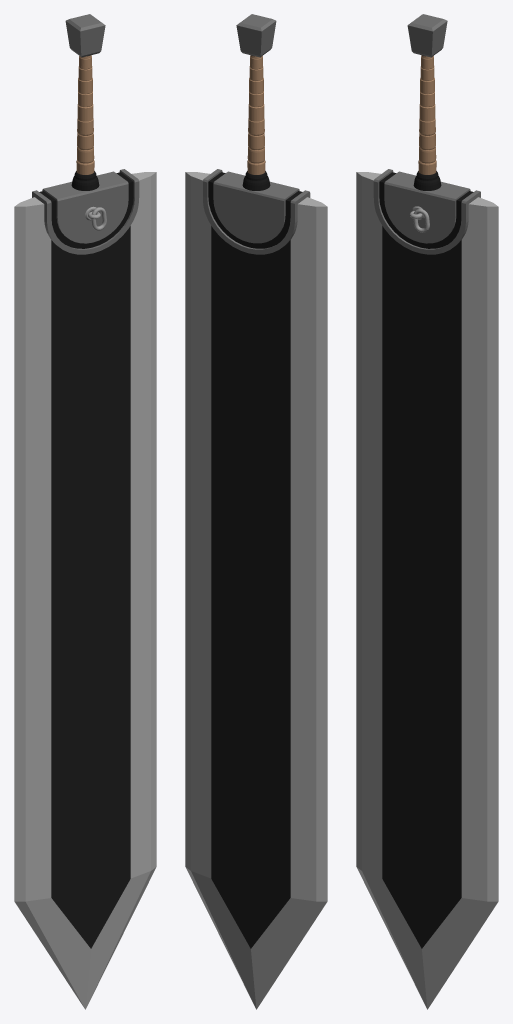
Rendered from DragonSlayer(Guts).fbx.
3 views of the same model, side by side, from view 1: azimuth 30°, elevation 25°; view 2: azimuth 150°, elevation 25°; view 3: azimuth 330°, elevation 25° (orthographic).
Parts seen in each view (by area): view 1: Torus.001; view 2: Torus.001; view 3: Torus.001.
Boxes of the visible parts, x1,y1,x2,y2 form: Torus.001: (14,14,156,1009); Torus.001: (185,14,327,1009); Torus.001: (356,14,498,1009).
Size of the model in its own units: 183 by 1216 by 46.84.
